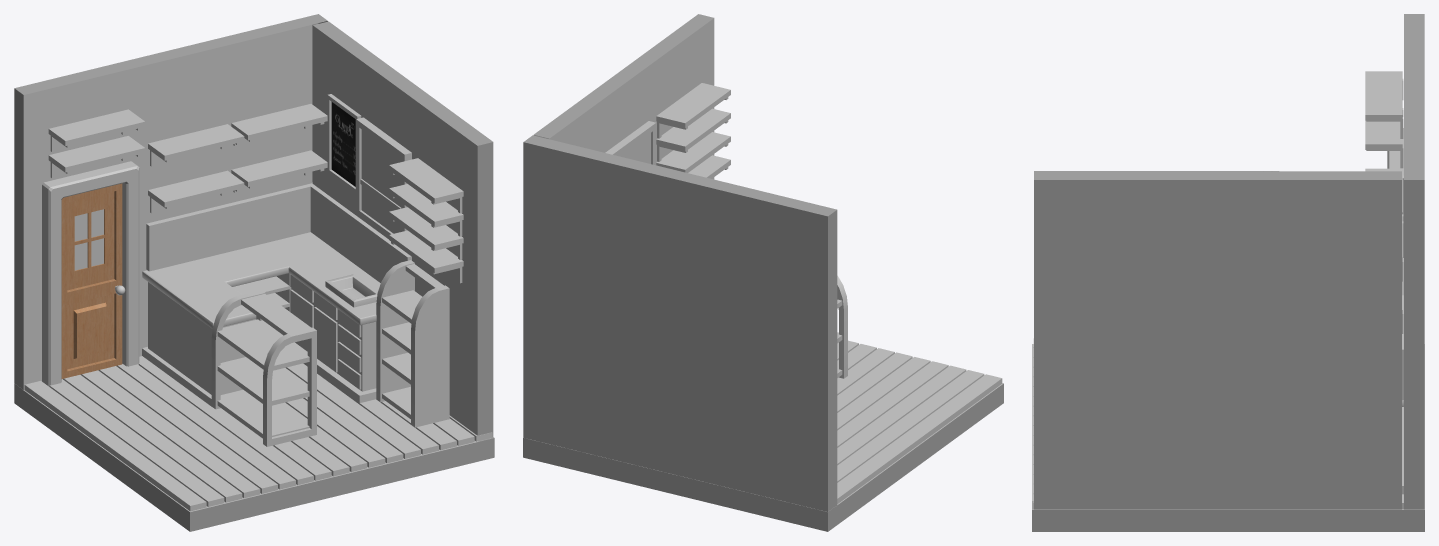
File: 1_coffeeShop_posta_esyasiz.fbx
The picture shows the model from 3 angles, left to right: view 1: azimuth 30°, elevation 25°; view 2: azimuth 150°, elevation 25°; view 3: azimuth 270°, elevation 25°; orthographic projection. The views are drawn at different scales.
Visible parts, largest first — view 1: Tezgah, Zemin, Yan_Duvar, Arka_Duvar, Arka_Duvar_Raflar, Yan_Duvar_Raflar, Kapi_iç, Kapi_dis; view 2: Yan_Duvar, Zemin, Arka_Duvar, Arka_Duvar_Raflar, Tezgah; view 3: Arka_Duvar, Yan_Duvar, Zemin, Yan_Duvar_Raflar.
Boxes of the visible parts, x1=… form: Tezgah: x1=142, y1=182, x2=449, y2=446; Zemin: x1=14, y1=356, x2=494, y2=531; Yan_Duvar: x1=14, y1=14, x2=327, y2=389; Arka_Duvar: x1=312, y1=21, x2=493, y2=436; Arka_Duvar_Raflar: x1=327, y1=94, x2=463, y2=283; Yan_Duvar_Raflar: x1=48, y1=104, x2=327, y2=213; Kapi_iç: x1=61, y1=183, x2=125, y2=378; Kapi_dis: x1=42, y1=161, x2=139, y2=386; Yan_Duvar: x1=523, y1=135, x2=837, y2=511; Zemin: x1=523, y1=340, x2=1003, y2=531; Arka_Duvar: x1=533, y1=14, x2=714, y2=179; Arka_Duvar_Raflar: x1=605, y1=83, x2=730, y2=178; Tezgah: x1=837, y1=275, x2=847, y2=378; Arka_Duvar: x1=1034, y1=171, x2=1401, y2=509; Yan_Duvar: x1=1404, y1=14, x2=1424, y2=509; Zemin: x1=1032, y1=338, x2=1424, y2=531; Yan_Duvar_Raflar: x1=1365, y1=71, x2=1403, y2=333.
Bounding box in the file's own units: 200 × 198 × 200.
